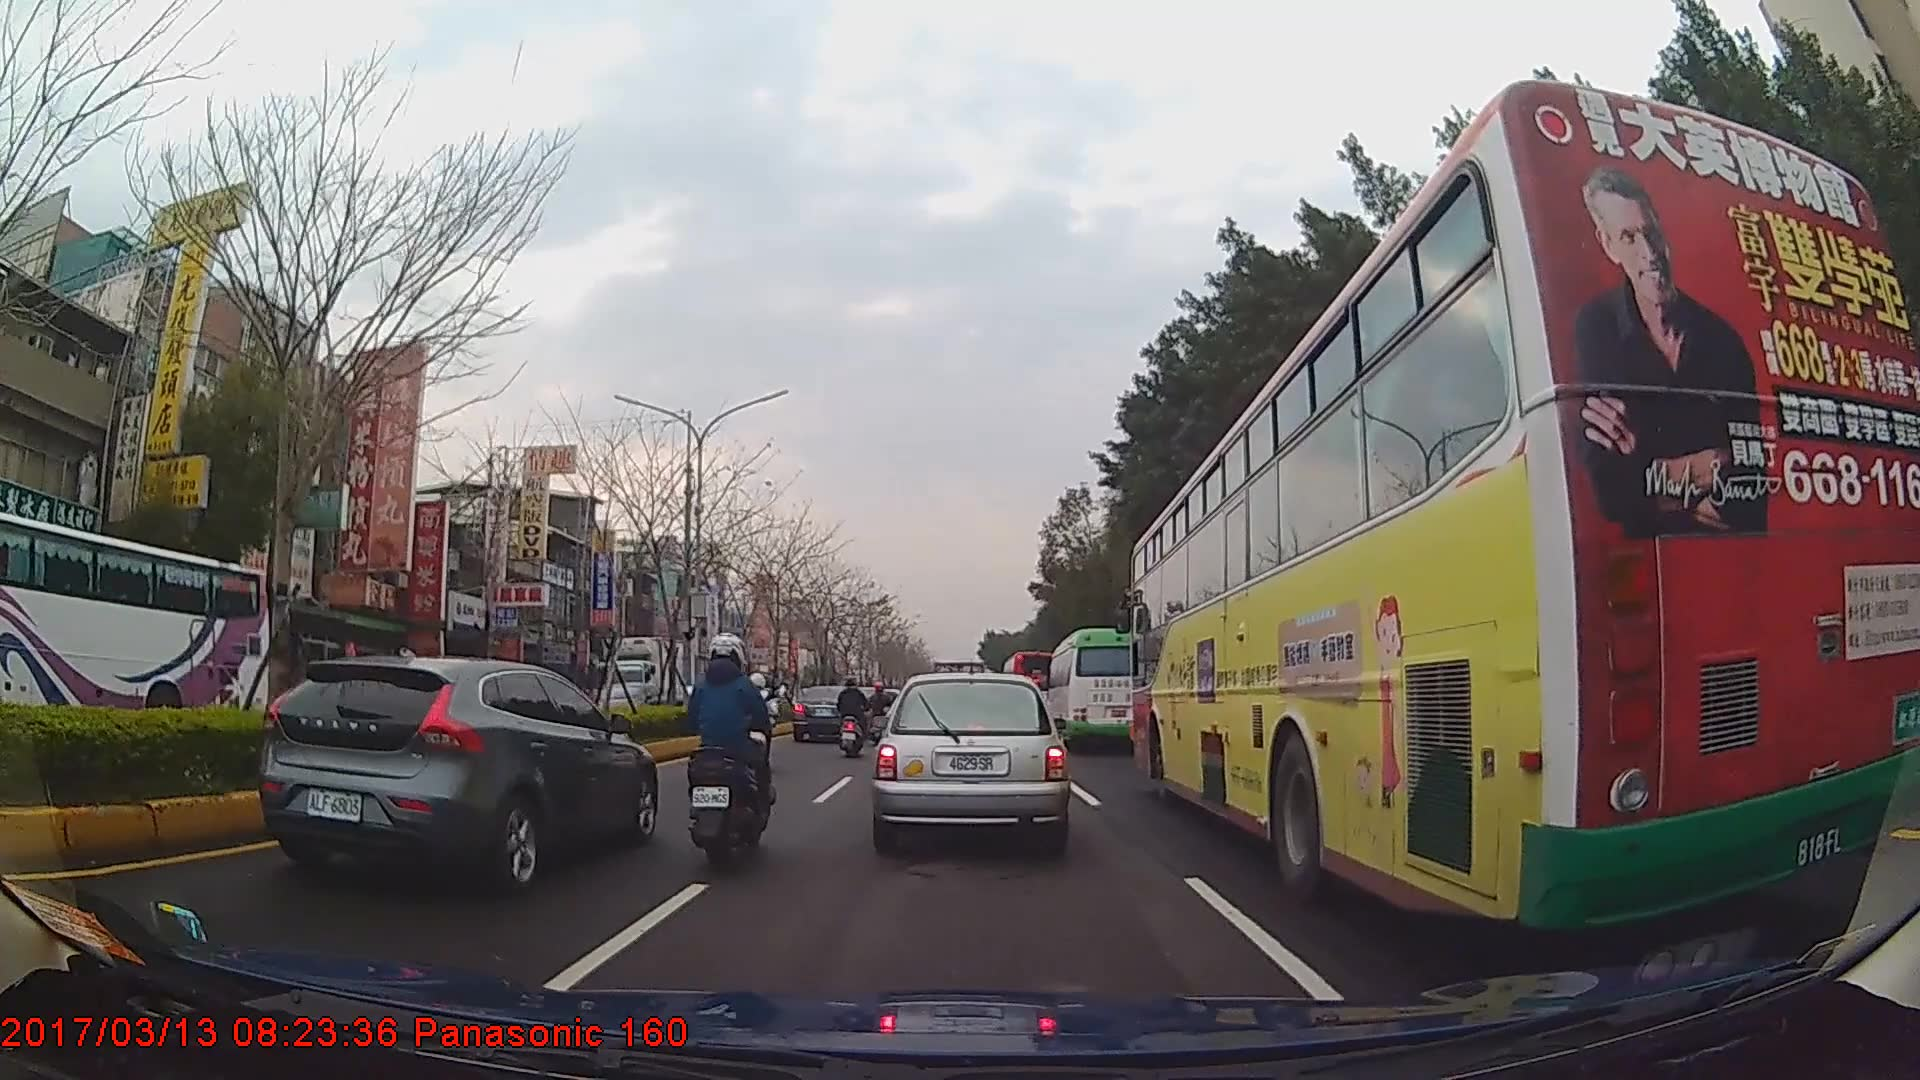rider: (684, 632, 775, 865), (733, 668, 777, 776), (836, 676, 873, 755), (866, 684, 893, 742)
vehicle: (1128, 75, 1920, 931), (260, 654, 658, 892), (0, 510, 269, 757), (874, 670, 1070, 850), (1046, 627, 1162, 753), (586, 632, 701, 741), (1000, 647, 1060, 722), (793, 684, 869, 744)
